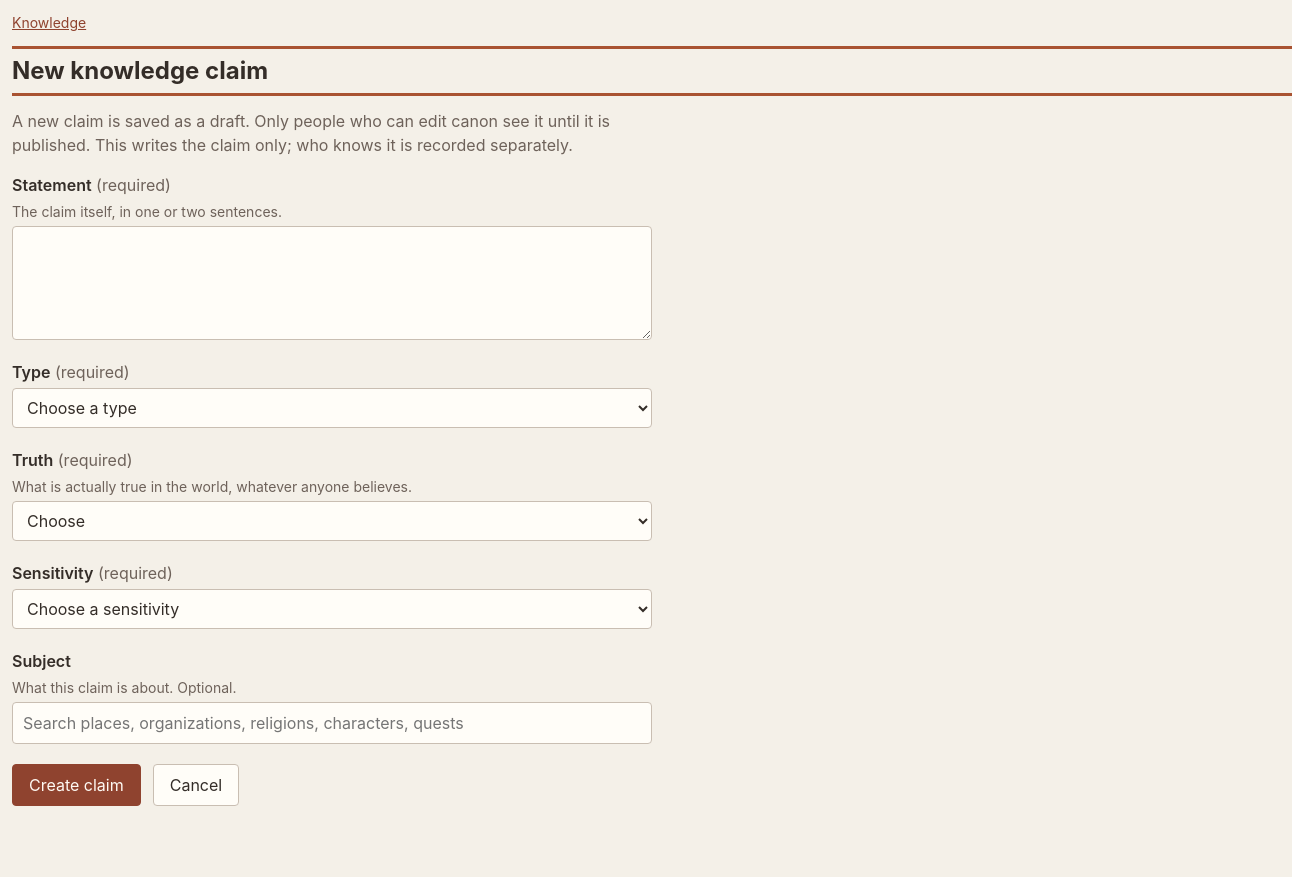
Test: CreateKnowledgePage › requires a statement, type, truth, and sensitivity before sending anything
This screenshot has width=1292, height=877.
Check: the dropdown labelled "Type (required)" is shown, box 12,388 -> 652,428
Click the button "Create claim". click: (76, 785)
box: 12,764 -> 141,806
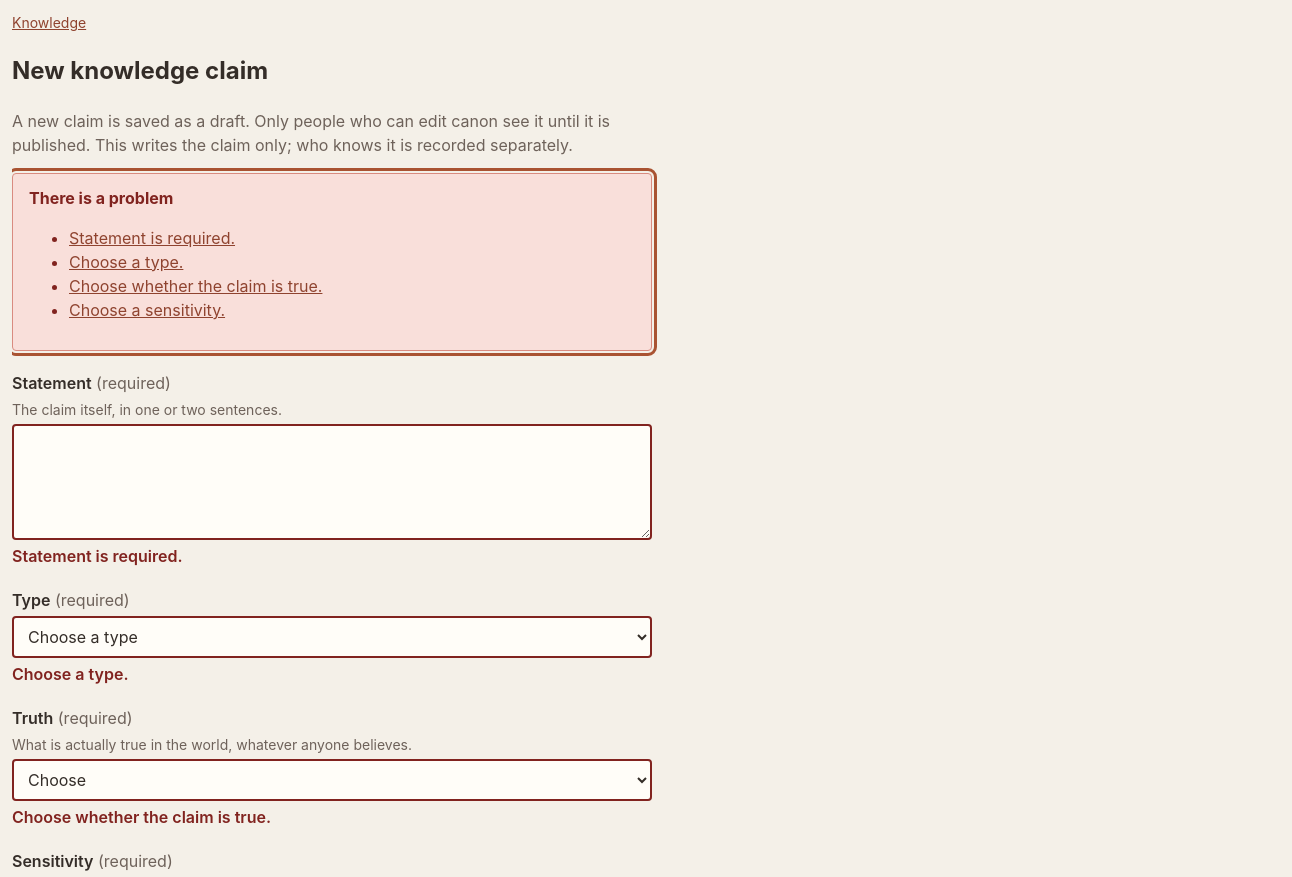
Check: the message shows "Statement is required.", box 69,228 -> 235,248
Check: the message shows "Choose a type.", box 69,252 -> 183,272
Check: the message shows "Choose whether the claim is true.", box 69,276 -> 322,296
